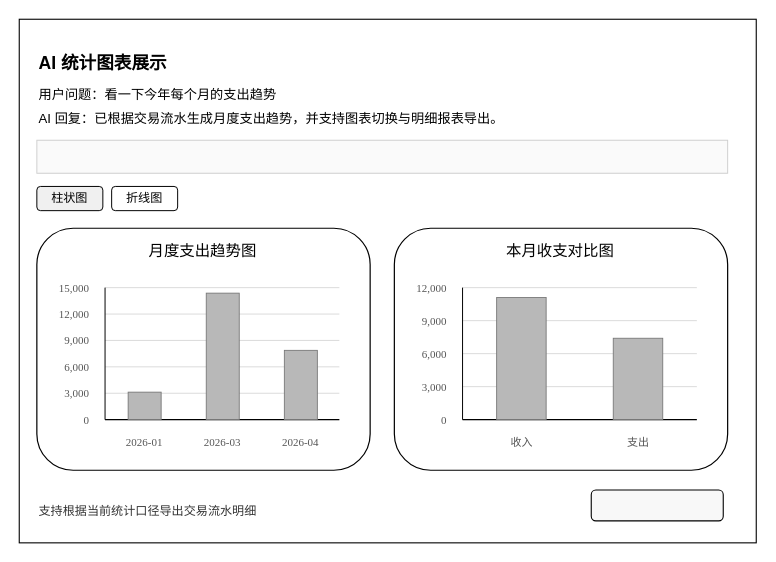
Image size: 776x562. Some labels were removed from this diagram. Here are the shapes that lost their labels. From the top down, the centre of each, then its label:
At [382,156]: "统计口径：支出 / 趋势，时间范围 2025-04-27 至 2026-04-27".
At [656,505]: "下载明细报表".
